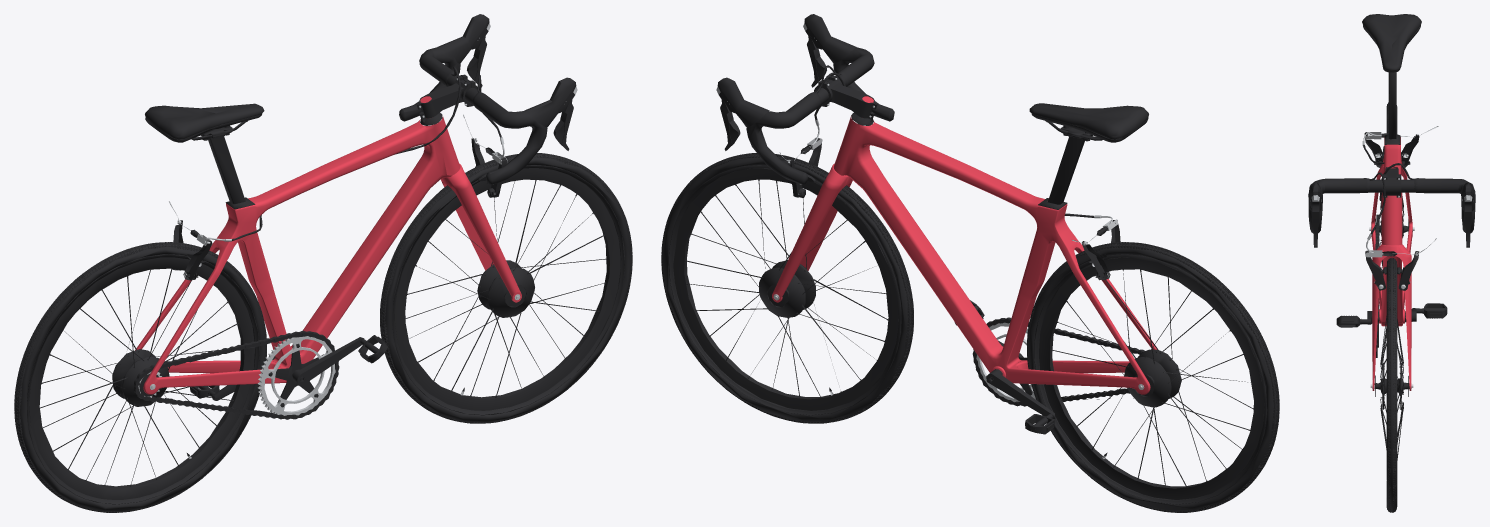
File: road.glb
3 renders of one model, left to right at view 1: azimuth 30°, elevation 25°; view 2: azimuth 150°, elevation 25°; view 3: azimuth 270°, elevation 25°, orthographic. The views are drawn at different scales.
Visible parts, largest first — view 1: dark, paint, metal; view 2: dark, paint, metal; view 3: dark, paint, metal.
Boxes of the visible parts, x1,y1,x2,y2 form: dark: (14,14,632,512); paint: (135,96,521,394); metal: (138,23,577,458); dark: (661,14,1279,512); paint: (772,96,1156,394); metal: (716,23,1144,459); dark: (1308,14,1475,512); paint: (1371,137,1412,390); metal: (1311,126,1472,388).
Bounding box in the file's own units: 1.71 × 1.03 × 0.4564.
